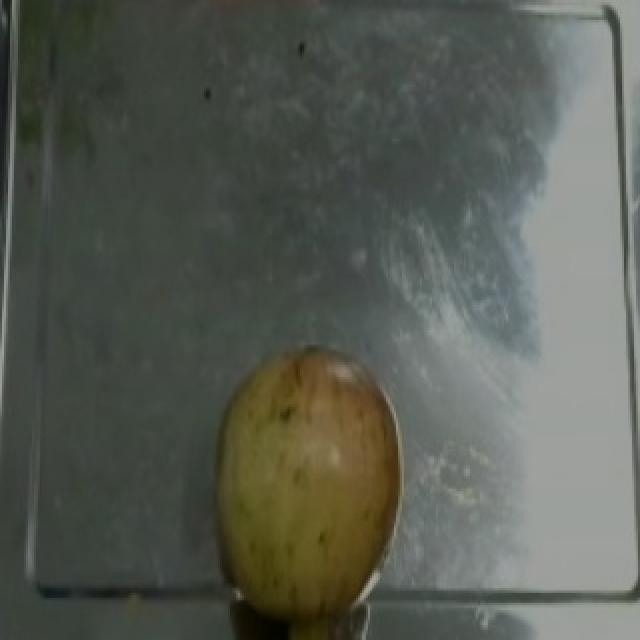fruit: (198, 325, 412, 528)
